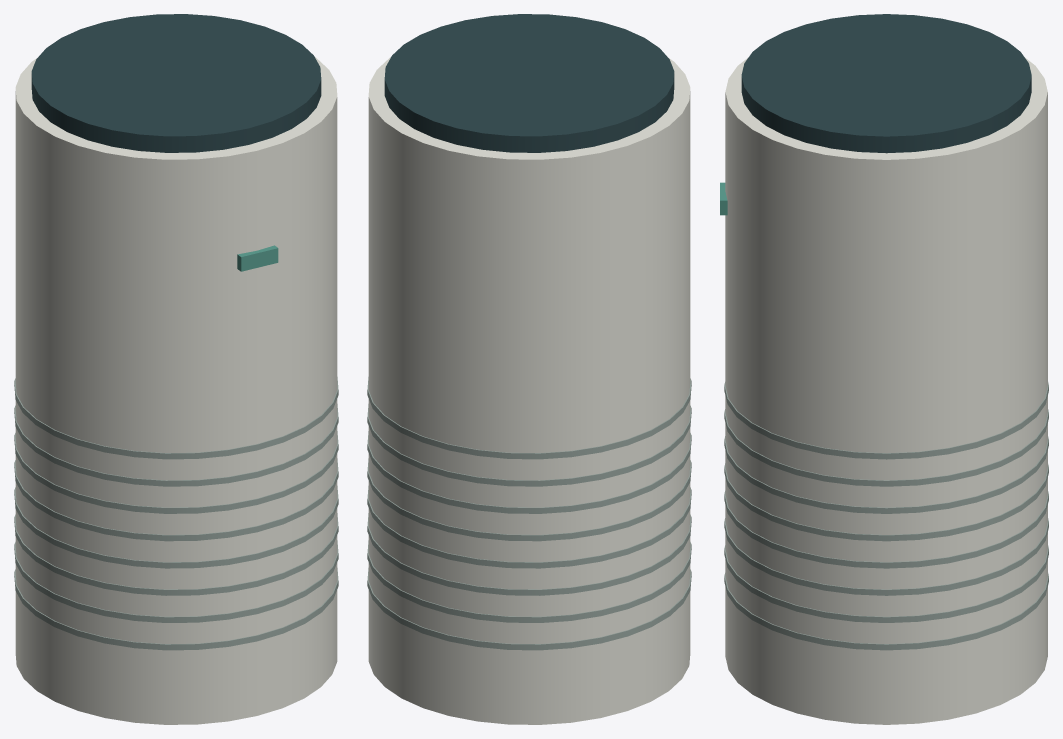
Rendered from air_purifier.glb.
3 renders of one model, left to right at view 1: azimuth 30°, elevation 25°; view 2: azimuth 150°, elevation 25°; view 3: azimuth 270°, elevation 25°, orthographic.
Visible parts, largest first — view 1: filter-housing, exhaust, filter-ring-6, filter-ring-1, filter-ring-0, filter-ring-7, filter-ring-2, filter-ring-5, filter-ring-4, filter-ring-3, status; view 2: filter-housing, exhaust, filter-ring-6, filter-ring-1, filter-ring-0, filter-ring-7, filter-ring-2, filter-ring-5, filter-ring-4, filter-ring-3; view 3: filter-housing, exhaust, filter-ring-1, filter-ring-7, filter-ring-3, filter-ring-5, filter-ring-2, filter-ring-6, filter-ring-4, filter-ring-0.
Boxes of the visible parts, bbox=[...] form: filter-housing: bbox=[15, 57, 337, 724]; exhaust: bbox=[31, 14, 321, 152]; filter-ring-6: bbox=[14, 404, 338, 486]; filter-ring-1: bbox=[14, 540, 338, 622]; filter-ring-0: bbox=[14, 568, 338, 650]; filter-ring-7: bbox=[14, 377, 338, 459]; filter-ring-2: bbox=[14, 513, 338, 595]; filter-ring-5: bbox=[14, 431, 338, 513]; filter-ring-4: bbox=[14, 458, 338, 541]; filter-ring-3: bbox=[14, 486, 338, 568]; status: bbox=[237, 245, 278, 271]; filter-housing: bbox=[368, 57, 690, 724]; exhaust: bbox=[384, 14, 674, 152]; filter-ring-6: bbox=[367, 404, 691, 486]; filter-ring-1: bbox=[367, 540, 691, 622]; filter-ring-0: bbox=[367, 568, 691, 650]; filter-ring-7: bbox=[367, 377, 691, 459]; filter-ring-2: bbox=[367, 513, 691, 595]; filter-ring-5: bbox=[367, 431, 691, 513]; filter-ring-4: bbox=[367, 458, 691, 541]; filter-ring-3: bbox=[367, 486, 691, 568]; filter-housing: bbox=[725, 57, 1047, 724]; exhaust: bbox=[741, 14, 1031, 153]; filter-ring-1: bbox=[724, 545, 1048, 622]; filter-ring-7: bbox=[724, 382, 1048, 459]; filter-ring-3: bbox=[724, 491, 1048, 568]; filter-ring-5: bbox=[724, 436, 1048, 513]; filter-ring-2: bbox=[724, 518, 1048, 595]; filter-ring-6: bbox=[724, 409, 1048, 486]; filter-ring-4: bbox=[724, 463, 1048, 541]; filter-ring-0: bbox=[724, 573, 1048, 650].
Bounding box in the file's own units: 0.302 × 0.597 × 0.306.
